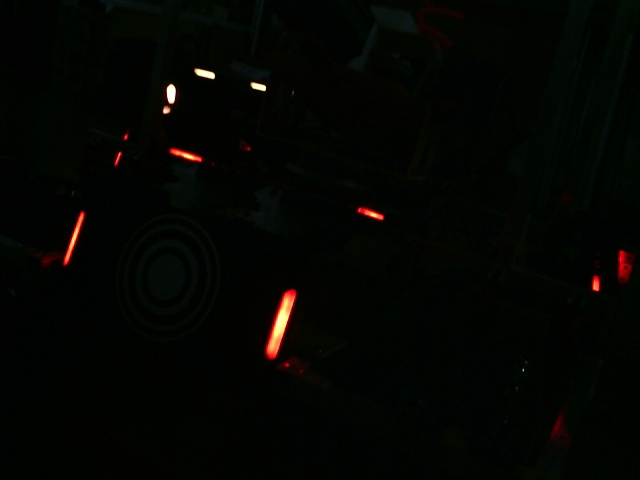lamp: (257, 280, 299, 364), (56, 208, 86, 268)
